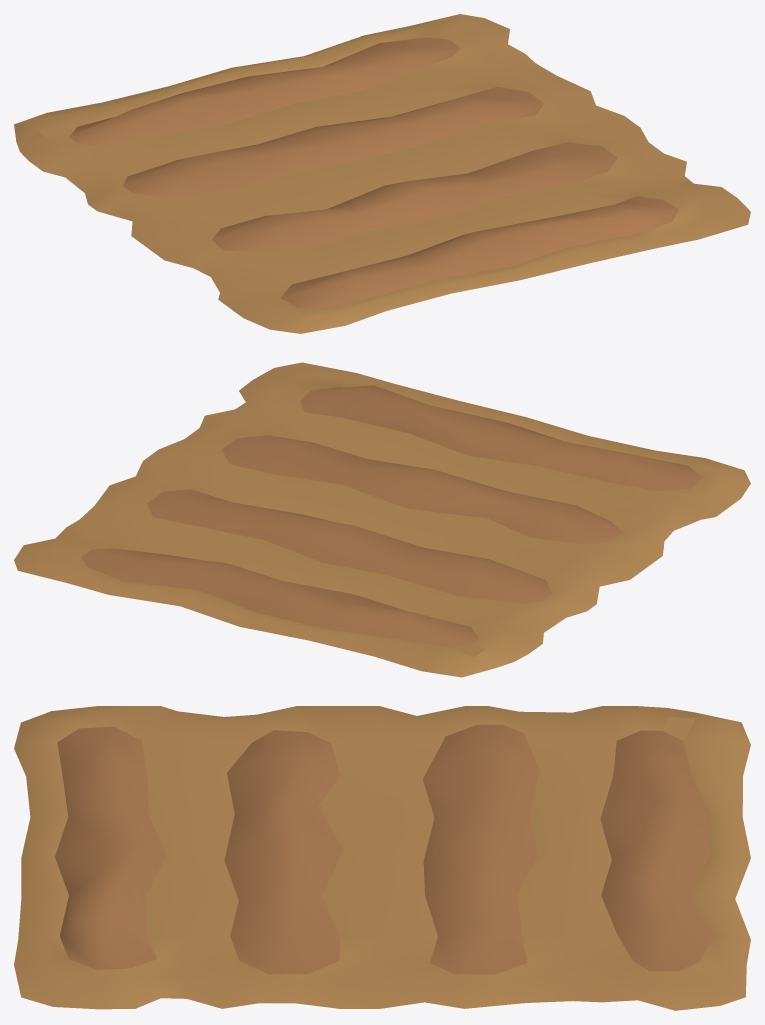
The model's file is Building_model_0_Fieldedge001.fbx.
3 views of the same model, one above another, from view 1: azimuth 30°, elevation 25°; view 2: azimuth 150°, elevation 25°; view 3: azimuth 270°, elevation 25° (orthographic). The views are drawn at different scales.
Visible parts, largest first — view 1: Building_model_0_Fieldedge001; view 2: Building_model_0_Fieldedge001; view 3: Building_model_0_Fieldedge001.
Part boxes in pixels (x1,y1,x2,y2): Building_model_0_Fieldedge001: [14, 14, 750, 333]; Building_model_0_Fieldedge001: [14, 362, 750, 677]; Building_model_0_Fieldedge001: [14, 706, 750, 1010].
Size of the model in its own units: 2.8 by 0.0999 by 2.86.
